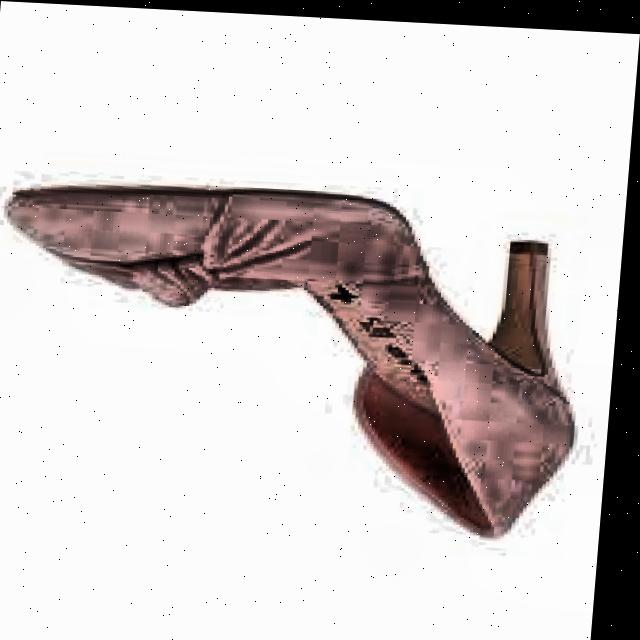shoes: (0, 173, 592, 562)
